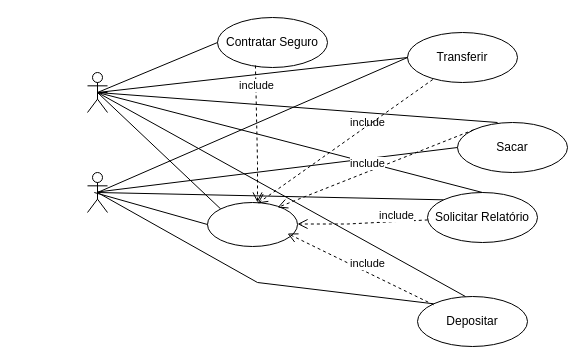
This 585x364 diagram has some shape labels left out. The centre of each missing label's shape, as x and y in pixels:
Cliente: (97,92)
Logar: (252,224)
Usuario (Gerente, Diretor, Presidente): (97,192)
